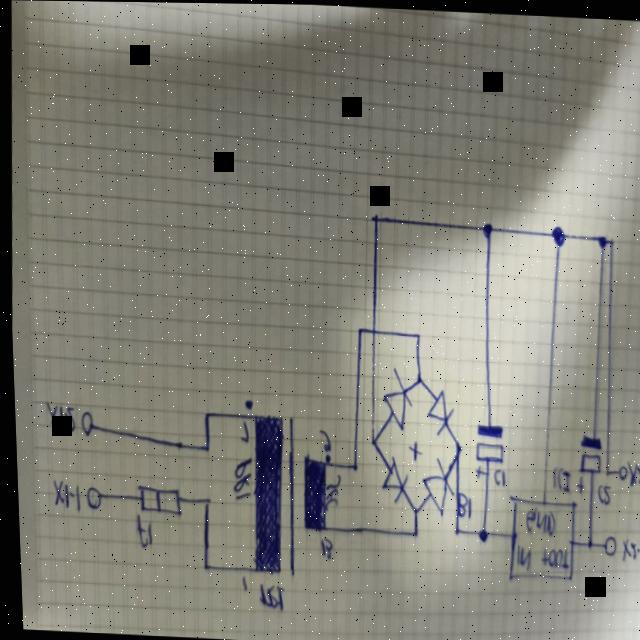capacitor: (469, 421, 502, 480), (570, 431, 600, 495)
crossover: (366, 323, 375, 339)
diode: (416, 455, 452, 516), (377, 366, 411, 430), (421, 388, 452, 437), (376, 456, 405, 503)
junction: (547, 224, 565, 249), (478, 220, 491, 240), (472, 526, 485, 543), (194, 560, 207, 576), (593, 233, 605, 248), (197, 494, 208, 509), (579, 536, 590, 551), (450, 441, 460, 456), (198, 409, 207, 422), (198, 443, 207, 456), (368, 212, 377, 225), (366, 434, 374, 448), (410, 329, 418, 343), (406, 527, 415, 539), (346, 461, 355, 473), (411, 373, 419, 386), (353, 324, 361, 337), (407, 505, 415, 517), (447, 525, 455, 537), (606, 235, 612, 248), (599, 467, 606, 477)
terminal: (79, 484, 99, 511), (74, 410, 90, 438), (596, 532, 613, 557), (612, 462, 625, 482)
text: (46, 477, 78, 513), (227, 456, 250, 503), (519, 506, 552, 538), (41, 402, 73, 434), (318, 469, 338, 512), (252, 583, 280, 612), (534, 544, 564, 571), (614, 536, 640, 564), (129, 516, 149, 551), (547, 464, 569, 492), (451, 491, 468, 520), (510, 544, 528, 571), (403, 437, 420, 464), (622, 462, 640, 487), (312, 427, 328, 453), (591, 482, 608, 506), (313, 537, 329, 561), (234, 419, 247, 446), (488, 468, 504, 488), (234, 573, 246, 593)
transformer: (232, 392, 335, 581)
